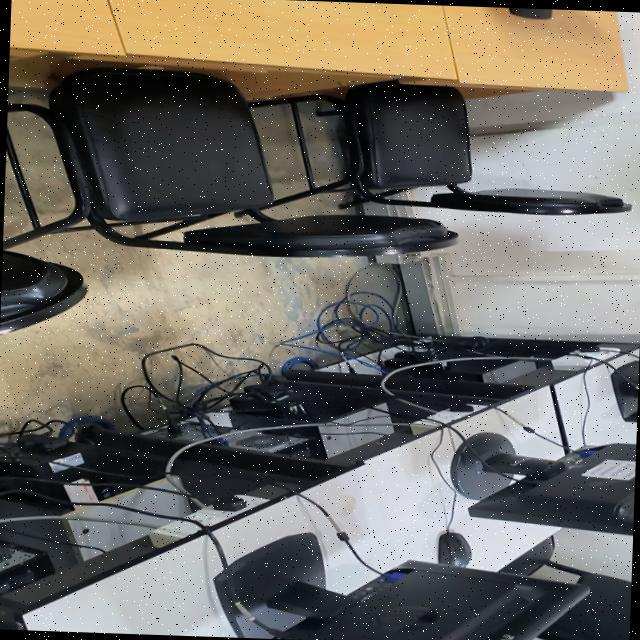Chair: (40, 69, 428, 258), (326, 82, 624, 216), (0, 243, 87, 350), (572, 561, 631, 640)
Cpu: (143, 419, 313, 459), (0, 527, 42, 591)
Monitor: (192, 566, 578, 640), (454, 428, 636, 530)
Mouse: (432, 529, 483, 566)
